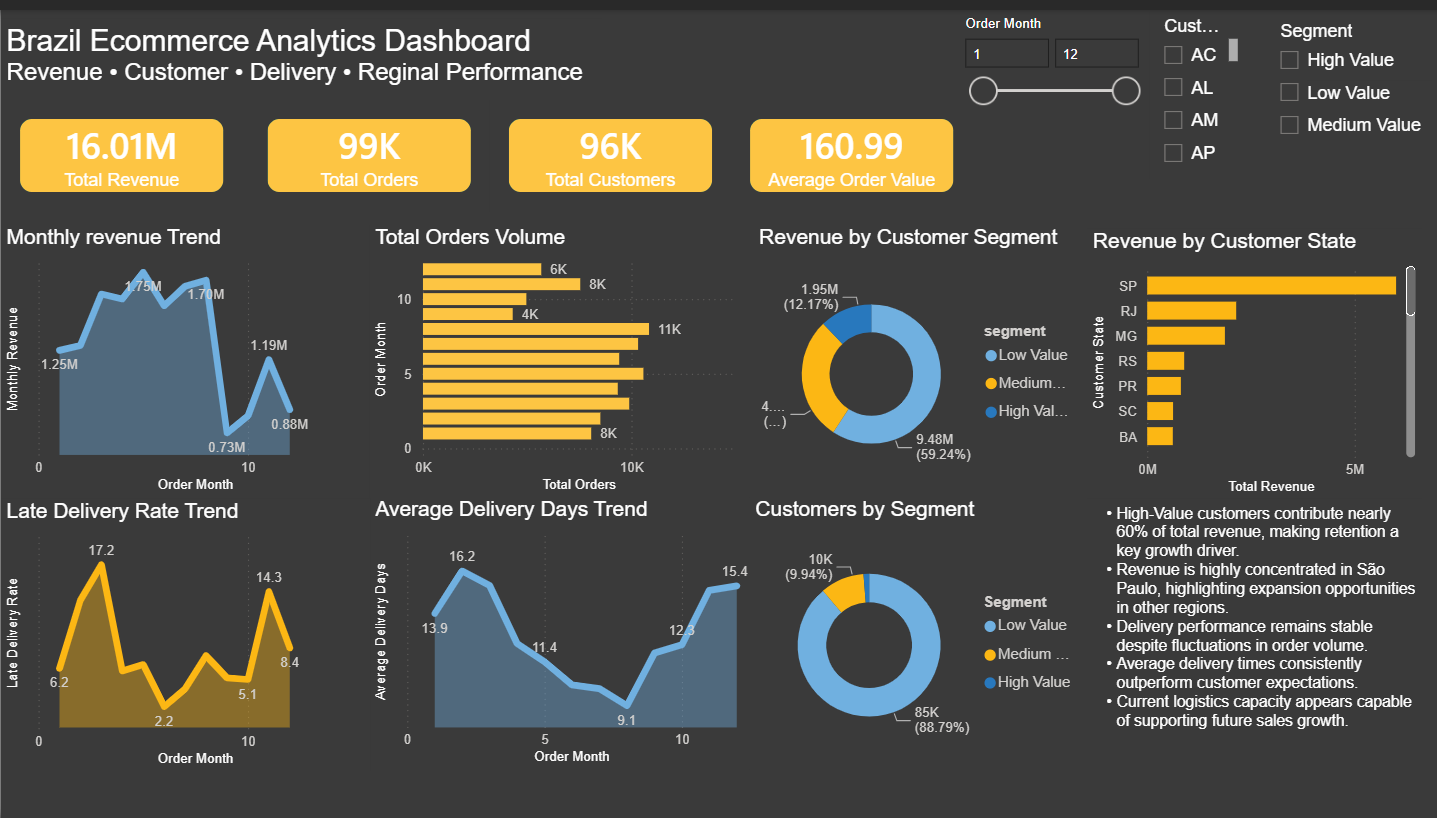

What the dashboard file says about the page in this screenshot:
{"tool":"powerbi","page":{"name":"Page 1","canvas":[1280,720],"ordinal":0},"visuals":[{"type":"cardVisual","title":"Total Revenue","fields":{"Data":["Sum(dashboard_summary_kpi.total_revenue)"]},"box":[0,79.6,215.2,99.5],"z":0},{"type":"cardVisual","fields":{"Data":["Sum(dashboard_summary_kpi.total_orders)"]},"box":[220.2,79.6,215.2,99.5],"z":1000},{"type":"cardVisual","fields":{"Data":["Sum(dashboard_summary_kpi.total_customers)"]},"box":[435.4,79.6,215.2,99.5],"z":2000},{"type":"cardVisual","fields":{"Data":["Sum(dashboard_summary_kpi.avg_order_value)"]},"box":[650.6,79.6,215.2,99.5],"z":3000},{"type":"lineChart","title":"Monthly revenue Trend","fields":{"Category":["monthly_revenue_kpi.order_month"],"Y":["Sum(monthly_revenue_kpi.monthly_revenue)"]},"box":[0,191.6,328.4,242.6],"z":4000},{"type":"clusteredBarChart","title":"Total Orders Volume","fields":{"Category":["monthly_revenue_kpi.order_month"],"Y":["Sum(monthly_revenue_kpi.total_orders)"]},"box":[328.4,191.6,342.1,242.6],"z":5000},{"type":"donutChart","title":"Revenue by Customer Segment","fields":{"Y":["Sum(customer_segment_kpi.segment_revenue)"],"Category":["customer_segment_kpi.segment"]},"box":[670.5,191.6,297.3,245.1],"z":6000},{"type":"donutChart","title":"Customers by Segment","fields":{"Category":["customer_segment_kpi.segment"],"Y":["Sum(customer_segment_kpi.total_customers)"]},"box":[666.8,434.1,301,242.6],"z":7000},{"type":"lineChart","title":"Average Delivery Days Trend","fields":{"Category":["delivery_performance_kpi.order_month"],"Y":["Sum(delivery_performance_kpi.avg_delivery_days)"]},"box":[328.4,434.1,342.1,242.6],"z":8000},{"type":"lineChart","title":"Late Delivery Rate Trend","fields":{"Category":["delivery_performance_kpi.order_month"],"Y":["Sum(delivery_performance_kpi.late_delivery_rate)"]},"box":[0,435.4,328.4,242.6],"z":9000},{"type":"clusteredBarChart","title":"Revenue by Customer State","fields":{"Category":["state_revenue_kpi.customer_state"],"Y":["Sum(state_revenue_kpi.total_revenue)"]},"box":[967.8,195.3,297.3,241.3],"z":10000},{"type":"slicer","fields":{"Values":["monthly_revenue_kpi.order_month"]},"box":[845.9,0,176.6,98.3],"z":11000},{"type":"slicer","fields":{"Values":["customer_segment_kpi.segment"]},"box":[1127,5,153,150.5],"z":12000},{"type":"slicer","fields":{"Values":["state_revenue_kpi.customer_state"]},"box":[1022.5,0,83.3,150.5],"z":13000},{"type":"textbox","box":[0,8.1,534.9,70.9],"z":14000},{"type":"textbox","box":[967.8,435.4,297.3,242.6],"z":15000}]}

Visuals, with their boxes in screenshot pixels (x1, y1, x2, y2), scaled from the page's 1280x720 canvas onto the 1437x818 screenshot:
"Total Revenue" cardVisual: bbox=(0, 90, 242, 203)
cardVisual - Sum(dashboard_summary_kpi.total_orders): bbox=(247, 90, 489, 203)
cardVisual - Sum(dashboard_summary_kpi.total_customers): bbox=(489, 90, 730, 203)
cardVisual - Sum(dashboard_summary_kpi.avg_order_value): bbox=(730, 90, 972, 203)
"Monthly revenue Trend" lineChart: bbox=(0, 218, 369, 493)
"Total Orders Volume" clusteredBarChart: bbox=(369, 218, 753, 493)
"Revenue by Customer Segment" donutChart: bbox=(753, 218, 1087, 496)
"Customers by Segment" donutChart: bbox=(749, 493, 1087, 769)
"Average Delivery Days Trend" lineChart: bbox=(369, 493, 753, 769)
"Late Delivery Rate Trend" lineChart: bbox=(0, 495, 369, 770)
"Revenue by Customer State" clusteredBarChart: bbox=(1087, 222, 1420, 496)
slicer - monthly_revenue_kpi.order_month: bbox=(950, 0, 1148, 112)
slicer - customer_segment_kpi.segment: bbox=(1265, 6, 1436, 177)
slicer - state_revenue_kpi.customer_state: bbox=(1148, 0, 1241, 171)
textbox: bbox=(0, 9, 601, 90)
textbox: bbox=(1087, 495, 1420, 770)
